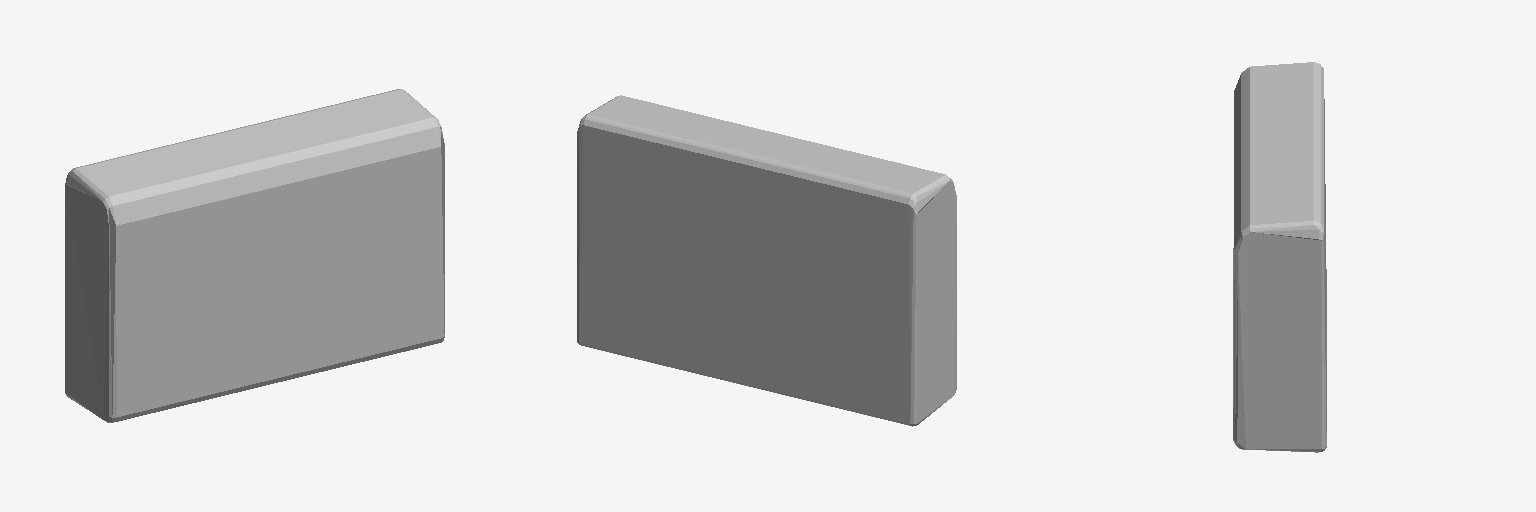
Rendered from backpillow_sofa.obj.
The picture shows the model from 3 angles: view 1: azimuth 30°, elevation 25°; view 2: azimuth 150°, elevation 25°; view 3: azimuth 270°, elevation 25°; orthographic projection.
Visible parts, largest first — view 1: Cube.003; view 2: Cube.003; view 3: Cube.003.
Part boxes in pixels (left/top/right/bottom): Cube.003: left=65, top=89, right=444, bottom=422; Cube.003: left=577, top=95, right=956, bottom=426; Cube.003: left=1233, top=62, right=1326, bottom=452.
Bounding box in the file's own units: 0.9872 × 0.635 × 0.2344.